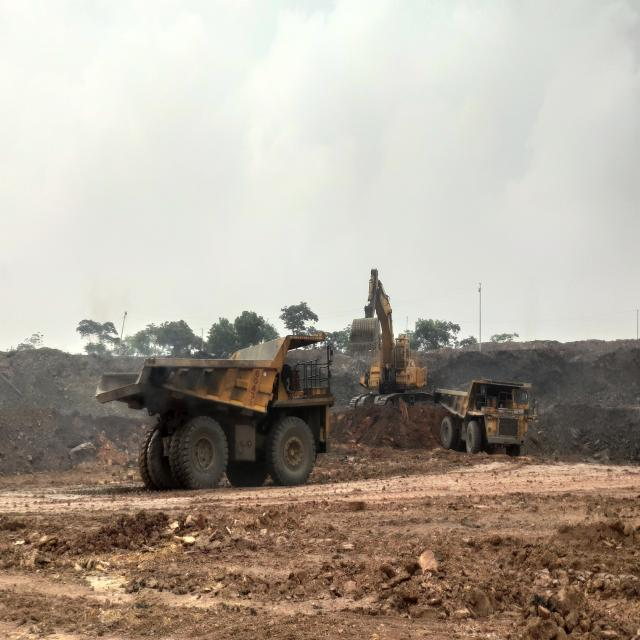dump_truck: (95, 333, 334, 491), (431, 381, 535, 456)
excavator: (349, 269, 433, 410)
